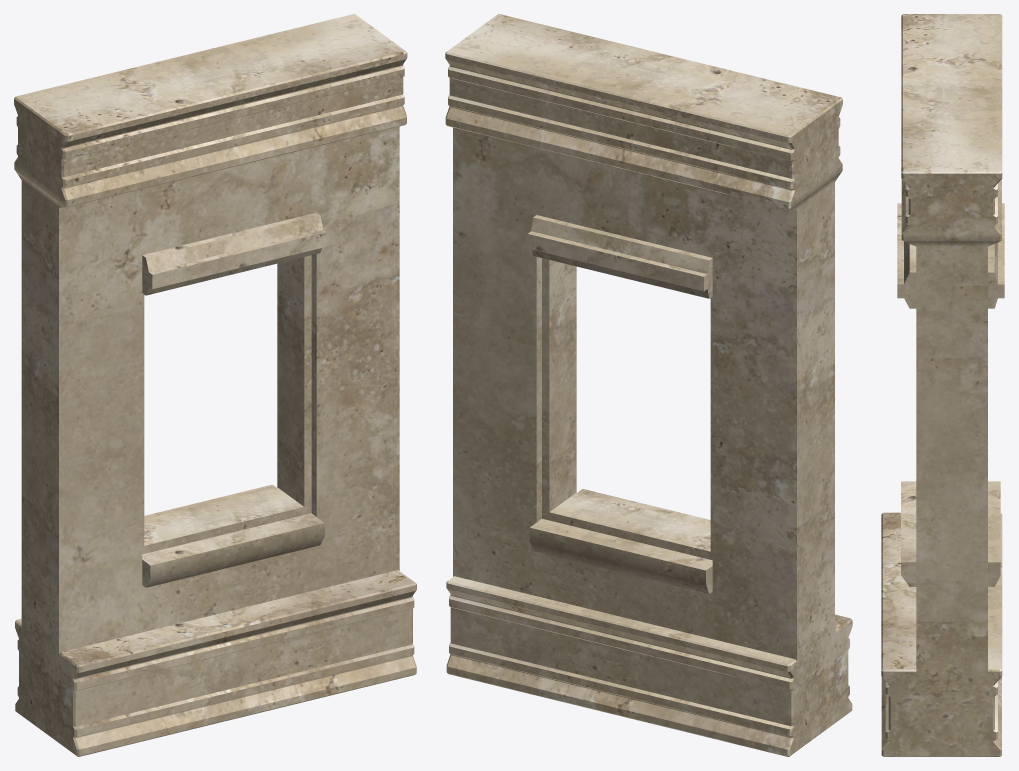
The model's file is wall_with_window.FBX.
3 views of the same model, side by side, from view 1: azimuth 30°, elevation 25°; view 2: azimuth 150°, elevation 25°; view 3: azimuth 270°, elevation 25° (orthographic). The views are drawn at different scales.
Parts seen in each view (by area): view 1: column_L032; view 2: column_L032; view 3: column_L032.
Part boxes in pixels (left/top/right/bottom): column_L032: left=14, top=14, right=416, bottom=756; column_L032: left=445, top=14, right=852, bottom=756; column_L032: left=881, top=14, right=1004, bottom=756.
Bounding box in the file's own units: 201 × 346 × 66.05.
